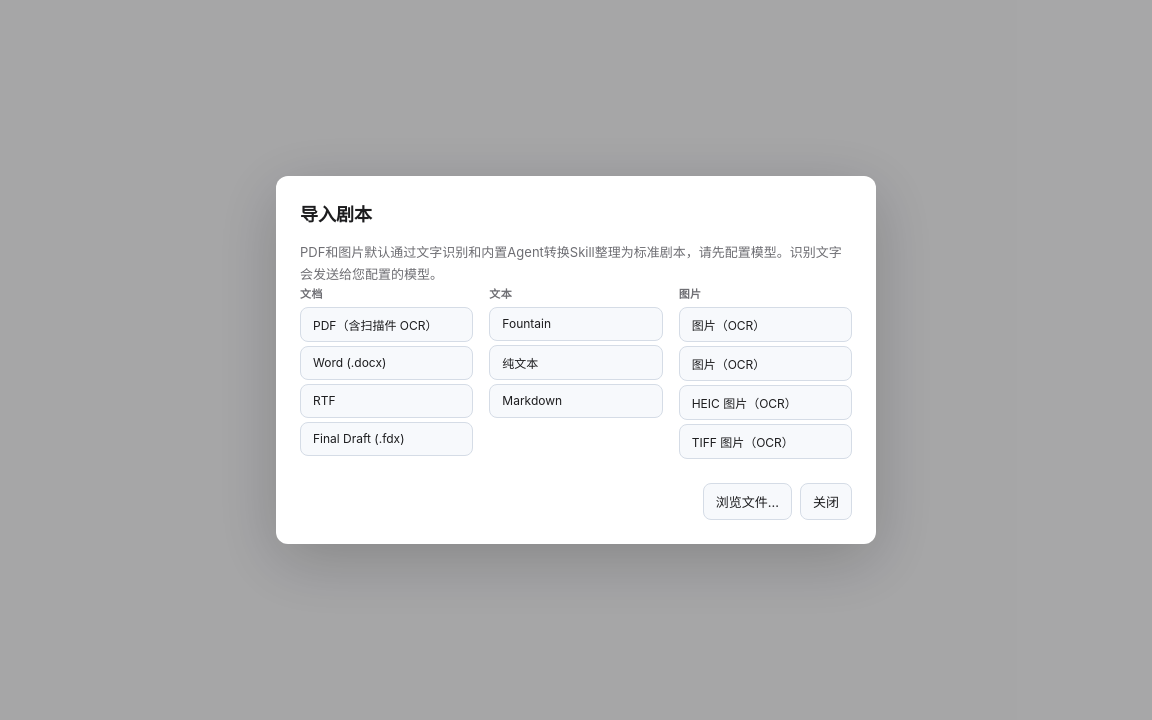
Test: 额度耗尽显示续转说明，重试空白新项目无需保存空文件
Step 1. Click the button "PDF（含扫描件 OCR）" → (387, 324), box [300,307,473,342]
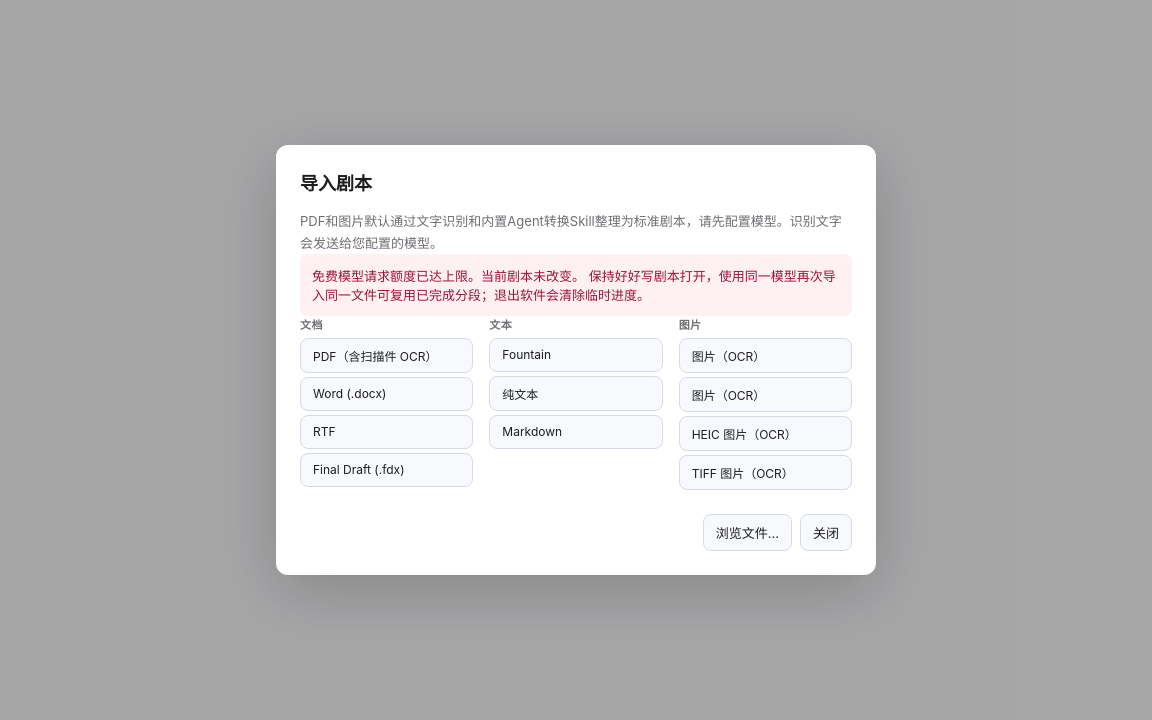
Now the text "免费模型请求额度已达上限。当前剧本未改变。 保持好好写剧本打开，使用同一模型再次导入同一文件可复用已完成分段；退出软件会清除临时进度。" is shown, box [300,254,852,316]
